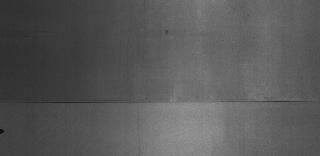punching hole: (0, 126, 6, 140)
welding line: (1, 98, 320, 110)
